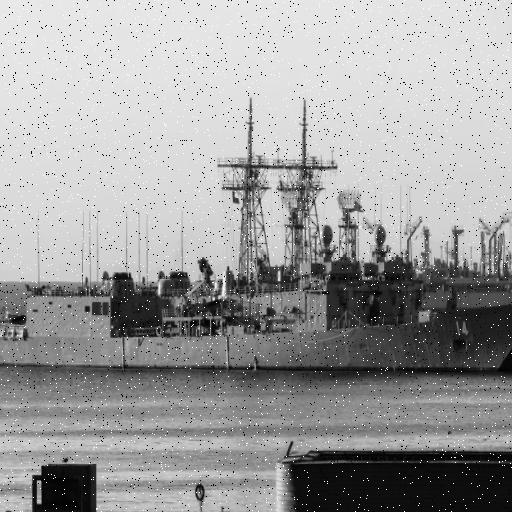Fragata: (1, 88, 512, 372)
